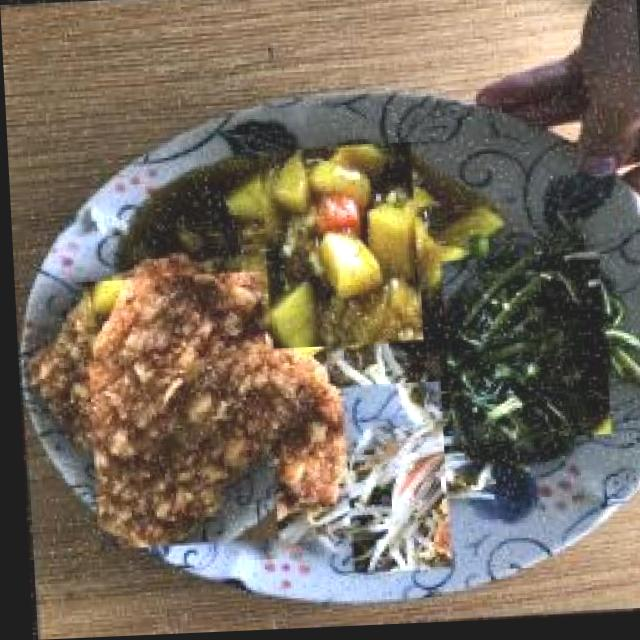curry: (247, 157, 432, 342)
fried_chicken: (57, 292, 295, 528)
mung_bean_sprouts: (336, 385, 447, 577)
water_spinach: (436, 256, 607, 450)
